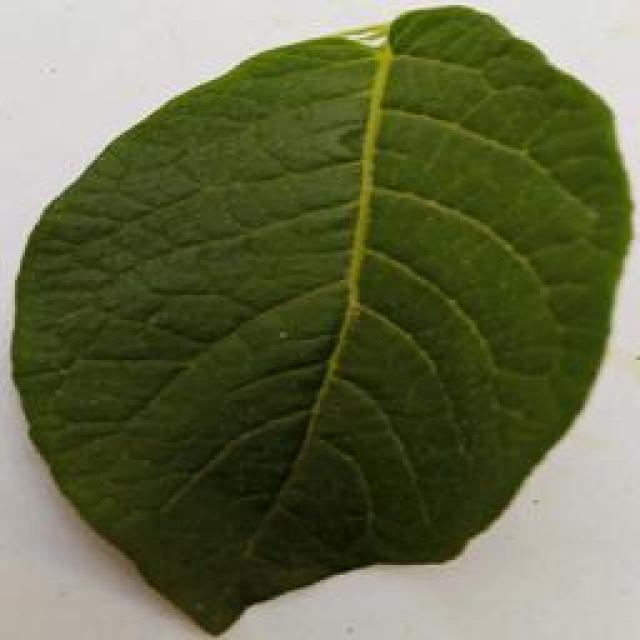Potato_Healthy: (13, 9, 621, 634)
